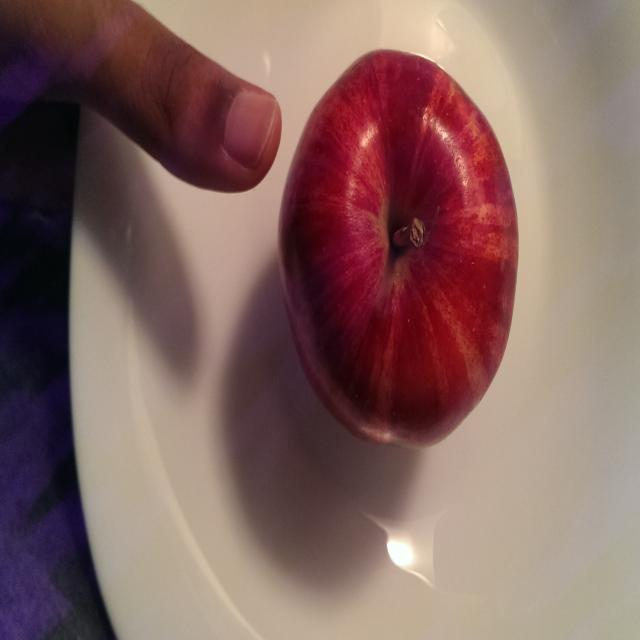apple: (283, 19, 519, 465)
